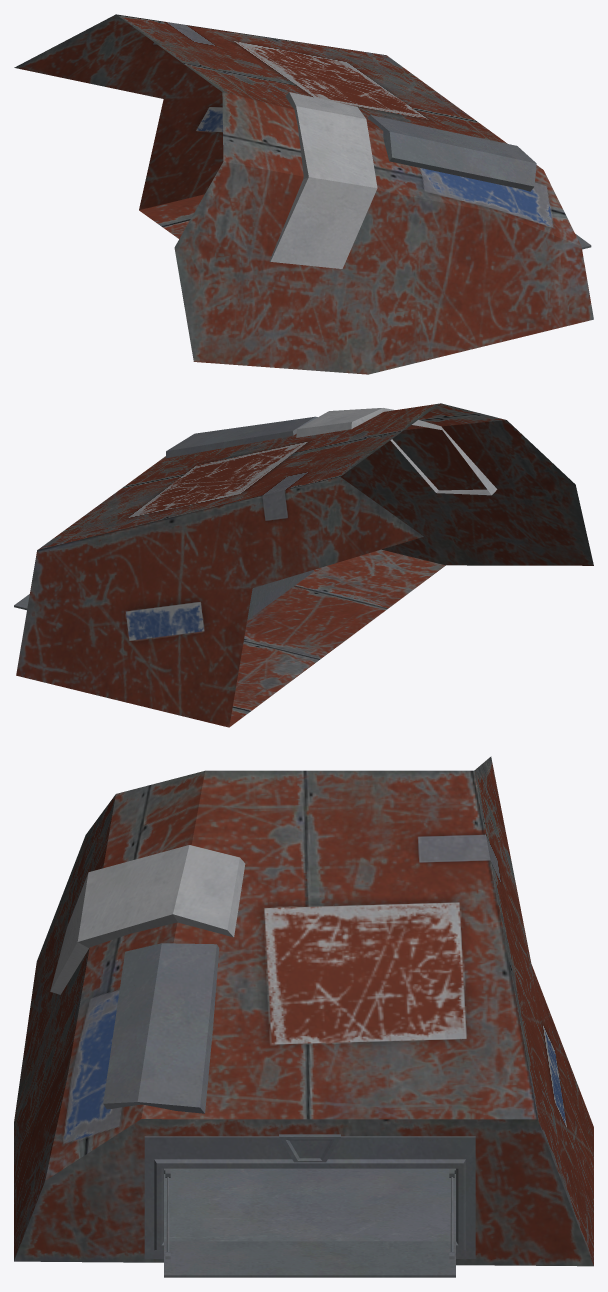
File: HCP3.fbx
3 renders of one model, top to bottom at view 1: azimuth 30°, elevation 25°; view 2: azimuth 150°, elevation 25°; view 3: azimuth 270°, elevation 25°, orthographic. The views are drawn at different scales.
Parts seen in each view (by area): view 1: threeD; view 2: threeD; view 3: threeD.
Part boxes in pixels (bbox=[...]): threeD: bbox=[14, 14, 593, 374]; threeD: bbox=[14, 403, 593, 727]; threeD: bbox=[14, 756, 593, 1277].
Bounding box in the file's own units: 5364 × 2836 × 4760.
1 material, 1 textured.
